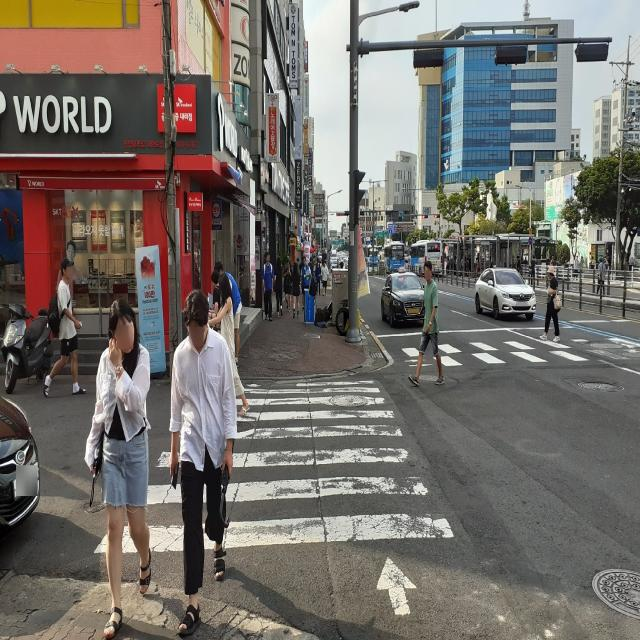횡단보도: (94, 378, 454, 617), (399, 341, 640, 364)
